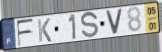1: (67, 13, 77, 41)
8: (126, 6, 144, 34)
F: (16, 18, 35, 48)
K: (36, 17, 53, 43)
S: (80, 11, 100, 41)
V: (104, 9, 124, 36)
